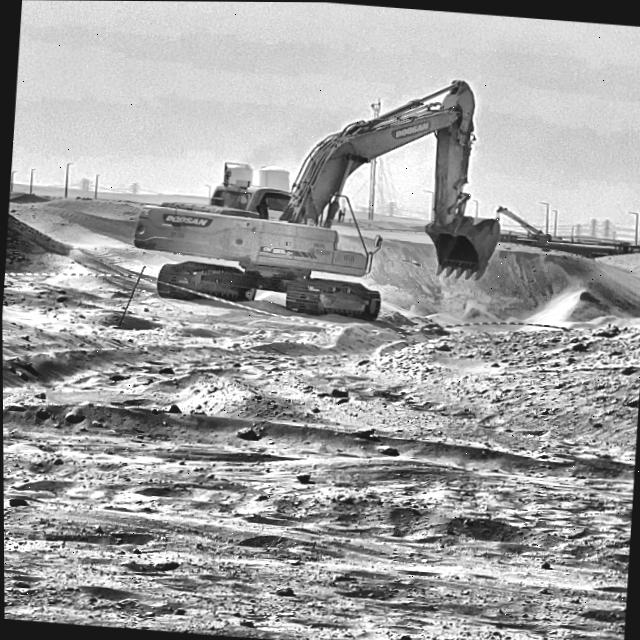excavator: (120, 42, 514, 335)
